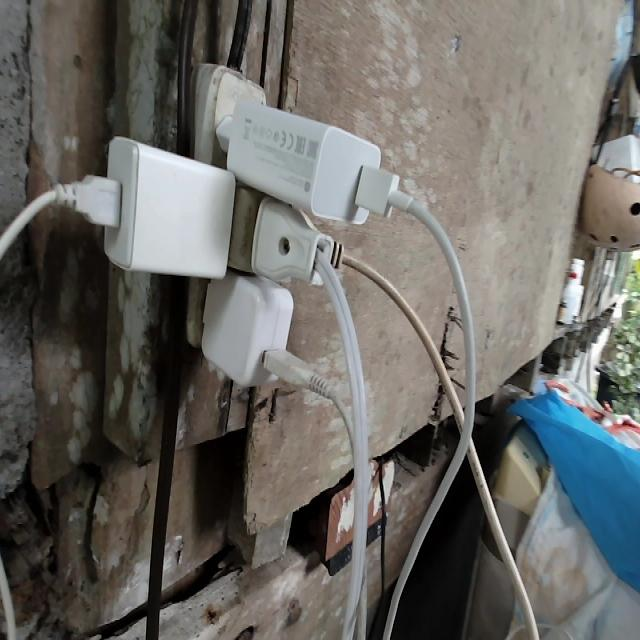-: (68, 67, 406, 390)
